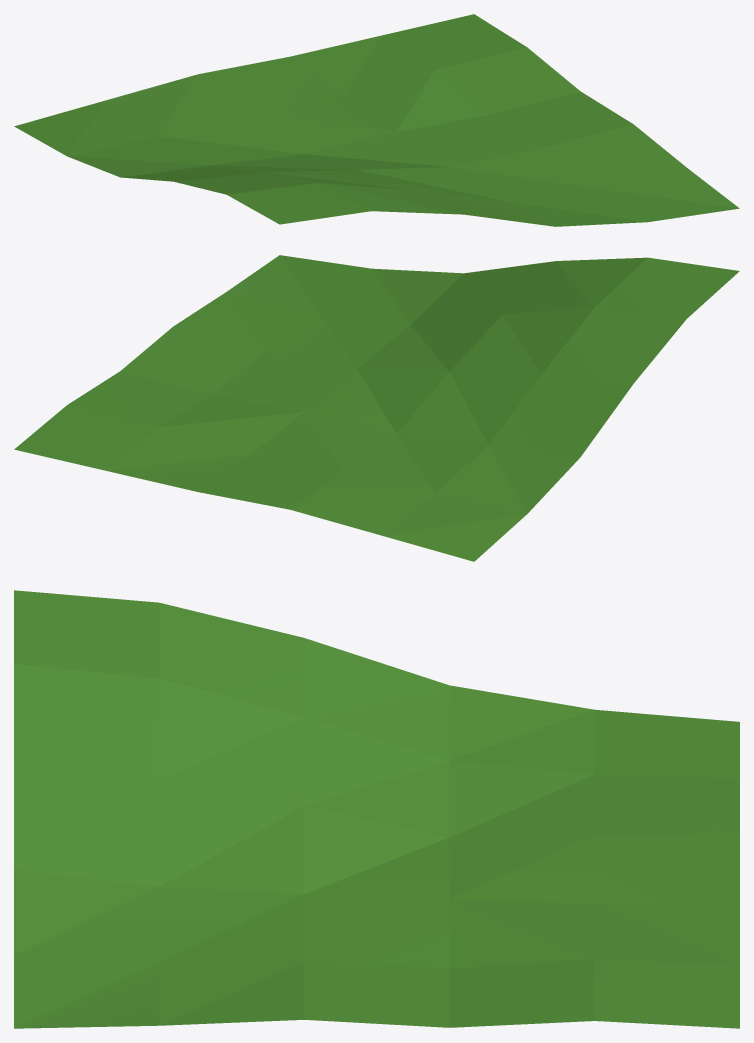
Rendered from terrains_terrain-plane-hill4.fbx.
3 renders of one model, top to bottom at view 1: azimuth 30°, elevation 25°; view 2: azimuth 150°, elevation 25°; view 3: azimuth 270°, elevation 25°, orthographic. The views are drawn at different scales.
Parts seen in each view (by area): view 1: terrains_terrain_plane_hill4; view 2: terrains_terrain_plane_hill4; view 3: terrains_terrain_plane_hill4.
Boxes of the visible parts, bbox=[...] form: terrains_terrain_plane_hill4: bbox=[14, 14, 739, 226]; terrains_terrain_plane_hill4: bbox=[14, 255, 739, 561]; terrains_terrain_plane_hill4: bbox=[14, 590, 739, 1028].
Bounding box in the file's own units: 200 × 40.4 × 200.
